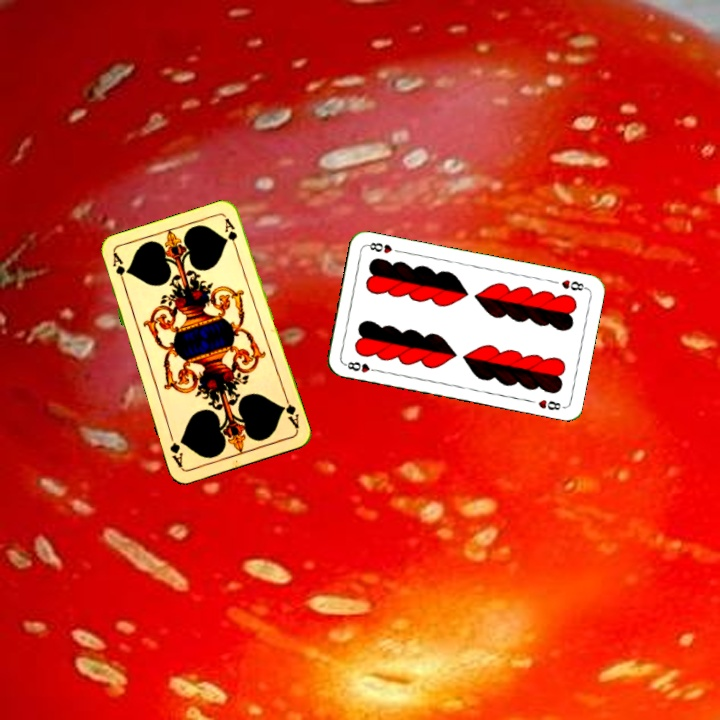GA: (278, 393, 302, 432), (108, 249, 129, 289)
H8: (341, 358, 381, 375), (557, 276, 589, 293)
